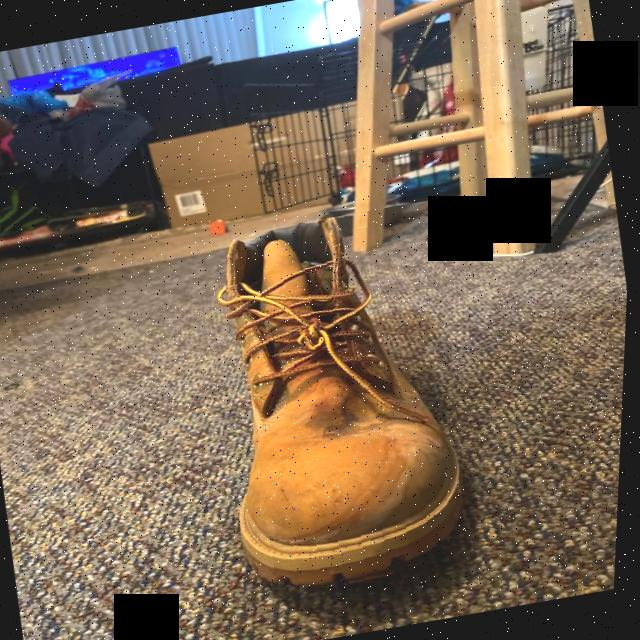shoe: (187, 200, 497, 604)
